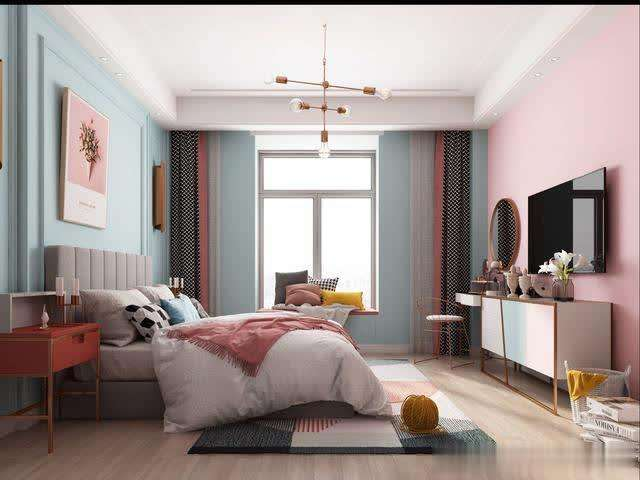床: (116, 306, 384, 441)
枕头: (76, 286, 202, 343), (268, 268, 366, 318)
灯: (266, 18, 393, 143)
